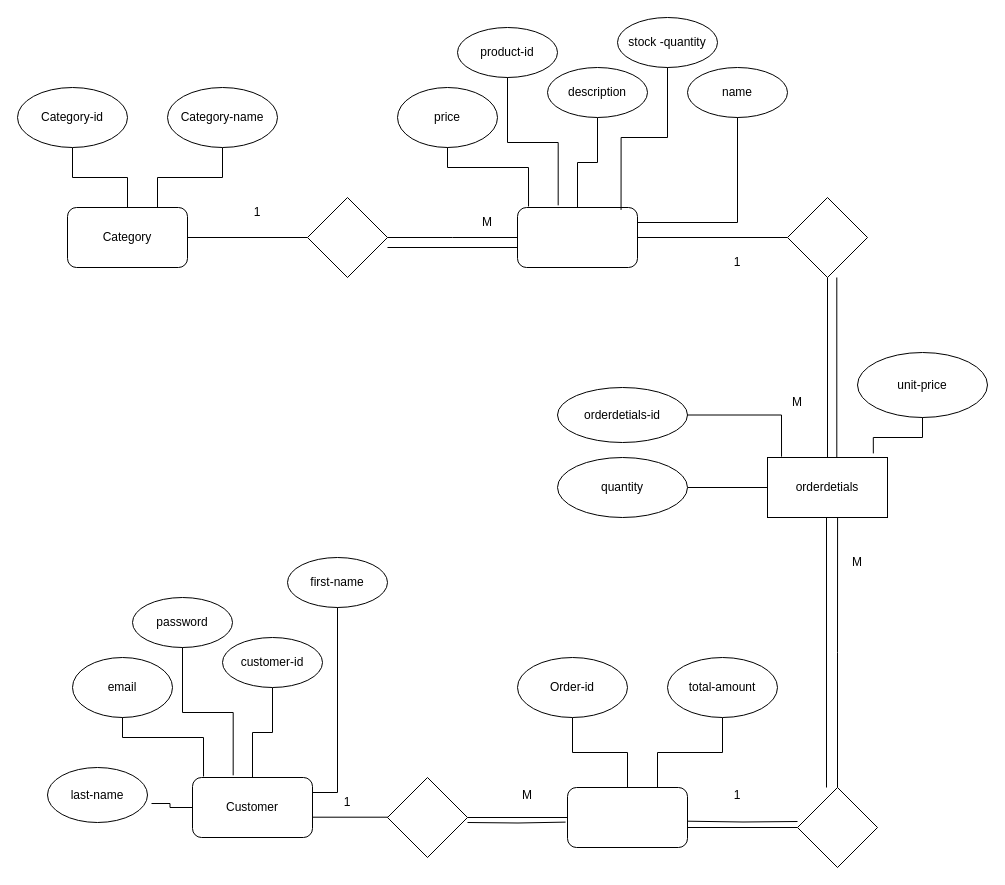
Image size: 1005x885. Some labels were removed from this diagram. The centre of each missing label's shape, as x and y in pixels:
appears in: the point at 837,827
contain: the point at 827,237
has category: the point at 347,237
Order: the point at 627,817
places: the point at 427,817
product: the point at 577,237
